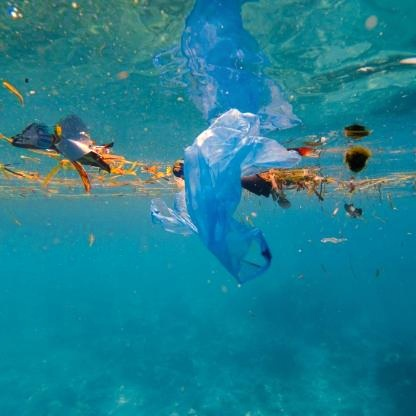pbag: (139, 108, 307, 290), (12, 114, 117, 181)
